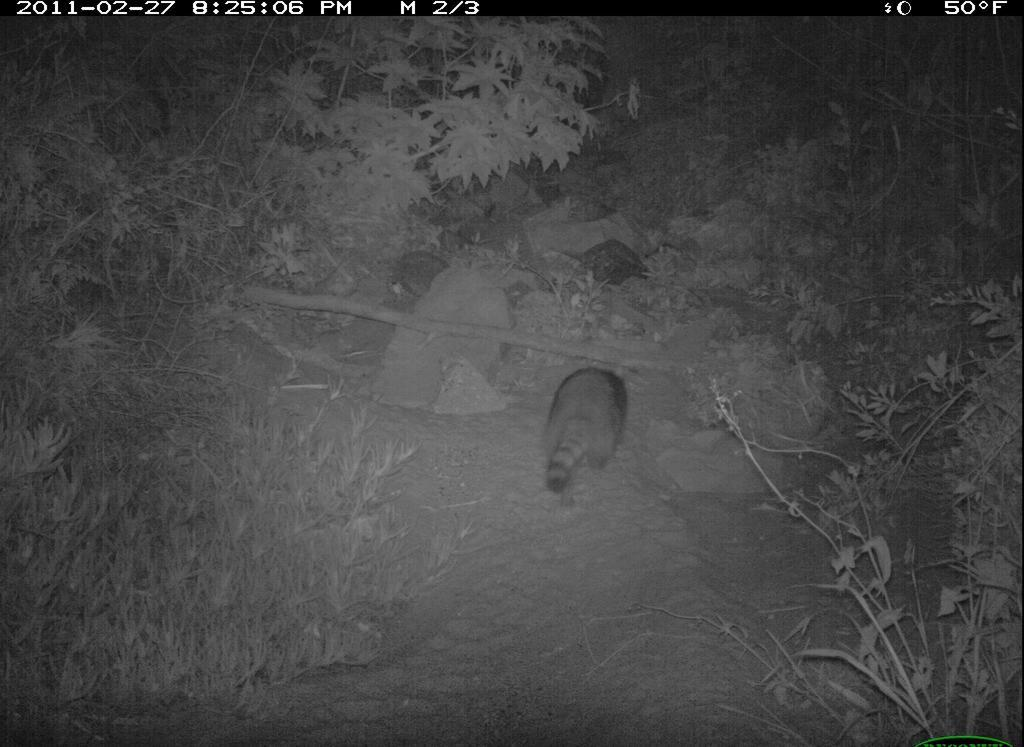raccoon: (530, 356, 641, 507)
